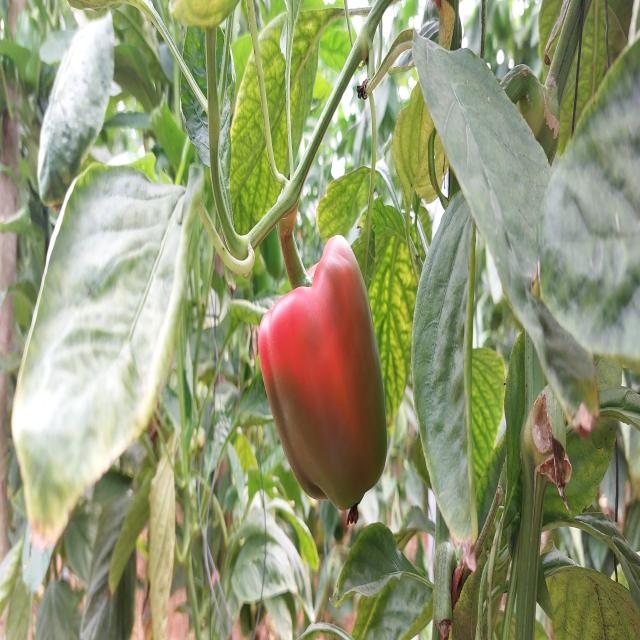BrownishRed--Can-be-Harvested: (255, 269, 389, 513)
